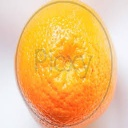orange: (12, 3, 125, 128)
